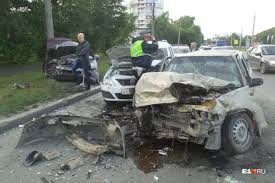car: (136, 48, 268, 154), (99, 36, 165, 109)
